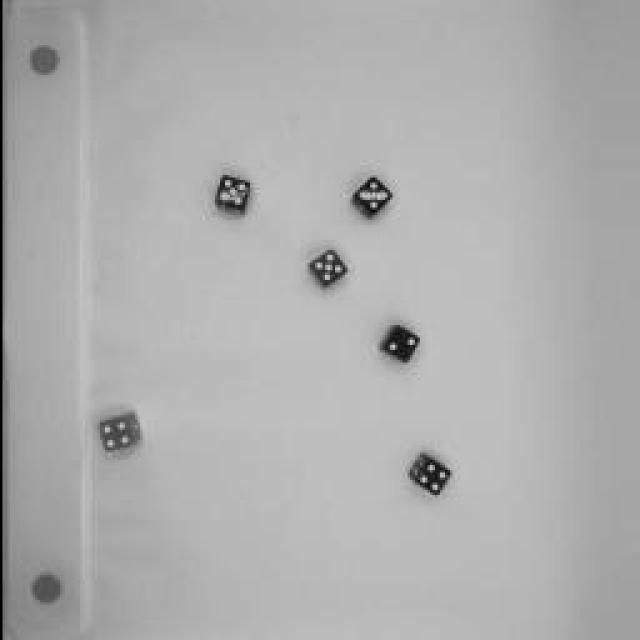dice_2: (372, 319, 422, 366)
dice_4: (403, 449, 455, 501), (92, 404, 142, 456)
dice_5: (341, 170, 394, 220), (205, 171, 255, 219), (300, 248, 352, 292)
